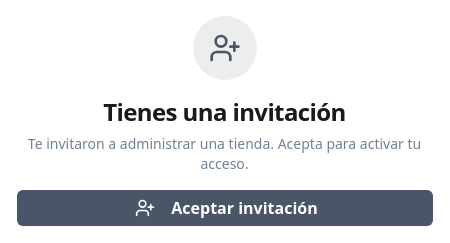
Test: AcceptMembershipCard (B5) › accepts and shows the activated card on outcome 'accepted'
Click the button "Aceptar invitación" at {"x": 224, "y": 208}, box [16,190,432,226]
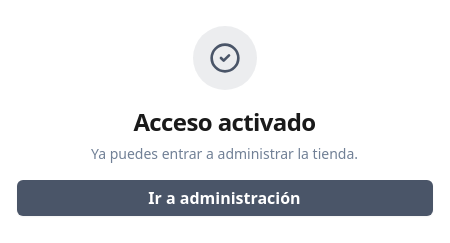
Check: the heading "Acceso activado" is shown, box [133,105,316,138]
